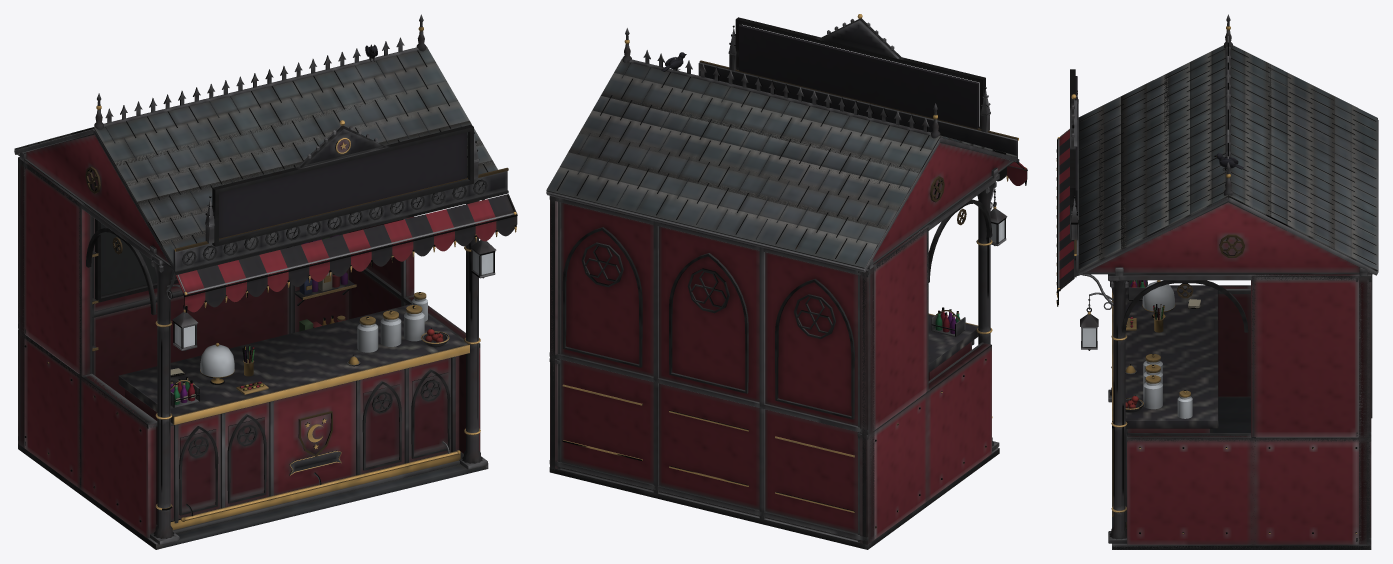
File: ConcessionStand.fbx
The picture shows the model from 3 angles, left to right: view 1: azimuth 30°, elevation 25°; view 2: azimuth 150°, elevation 25°; view 3: azimuth 270°, elevation 25°; orthographic projection. The views are drawn at different scales.
Visible parts, largest first — view 1: ConcessionStand_Main, ConcessionStand_Roof, ConcessionStand_Sign, ConcessionStand_Cloth, ConcessionStand_Shelves, ConcessionStand_Glass, ConcessionStand_Goods; view 2: ConcessionStand_Main, ConcessionStand_Roof, ConcessionStand_Sign, ConcessionStand_Goods; view 3: ConcessionStand_Main, ConcessionStand_Roof, ConcessionStand_Sign, ConcessionStand_Glass, ConcessionStand_Goods.
Part boxes in pixels (left/top/right/bottom): ConcessionStand_Main: left=18, top=152, right=516, bottom=549; ConcessionStand_Roof: left=14, top=14, right=497, bottom=299; ConcessionStand_Sign: left=167, top=120, right=508, bottom=350; ConcessionStand_Cloth: left=184, top=214, right=517, bottom=312; ConcessionStand_Shelves: left=92, top=219, right=356, bottom=351; ConcessionStand_Glass: left=175, top=251, right=493, bottom=377; ConcessionStand_Goods: left=170, top=292, right=449, bottom=407; ConcessionStand_Main: left=549, top=162, right=1026, bottom=549; ConcessionStand_Roof: left=546, top=28, right=1016, bottom=272; ConcessionStand_Sign: left=698, top=14, right=1019, bottom=246; ConcessionStand_Goods: left=931, top=307, right=965, bottom=336; ConcessionStand_Main: left=1057, top=129, right=1372, bottom=549; ConcessionStand_Roof: left=1078, top=14, right=1378, bottom=309; ConcessionStand_Sign: left=1070, top=69, right=1113, bottom=350; ConcessionStand_Glass: left=1082, top=281, right=1192, bottom=418; ConcessionStand_Goods: left=1125, top=280, right=1200, bottom=412.
Bounding box in the file's own units: 965 × 1133 × 857.
